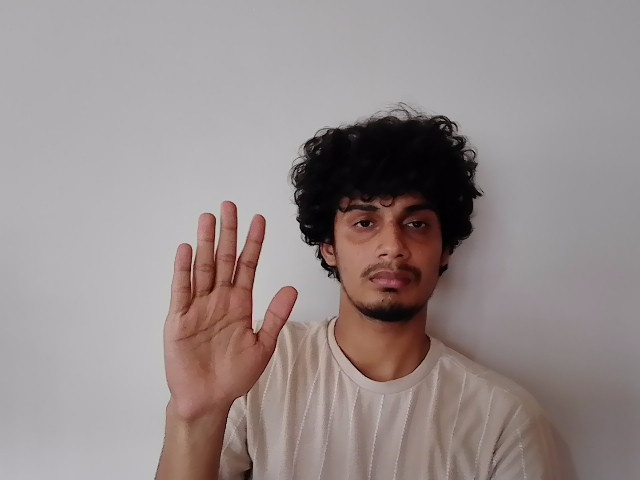goodbye: (160, 194, 298, 408)
